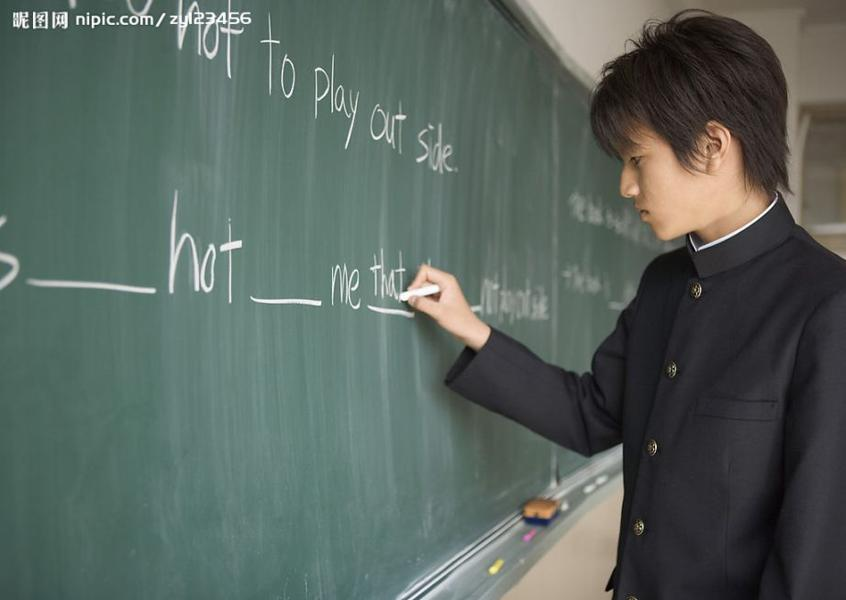person: (411, 16, 843, 600)
